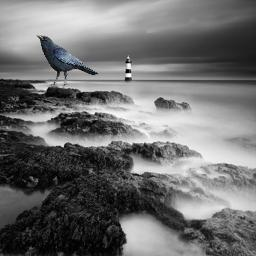Crow: (36, 35, 98, 87)
